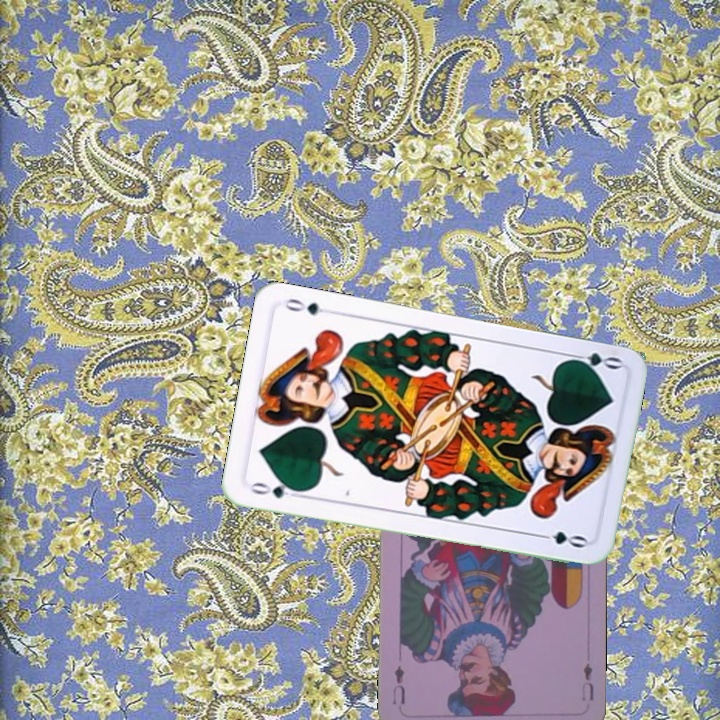EU: (577, 659, 596, 703)
GO: (563, 348, 623, 373), (246, 477, 305, 501)
